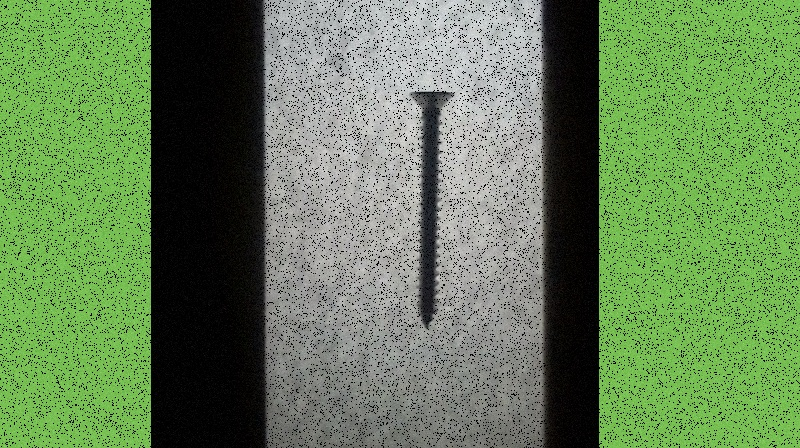S002: (406, 88, 457, 331)
